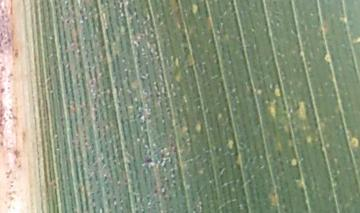tarspot: (181, 32, 188, 43), (145, 158, 154, 164)
